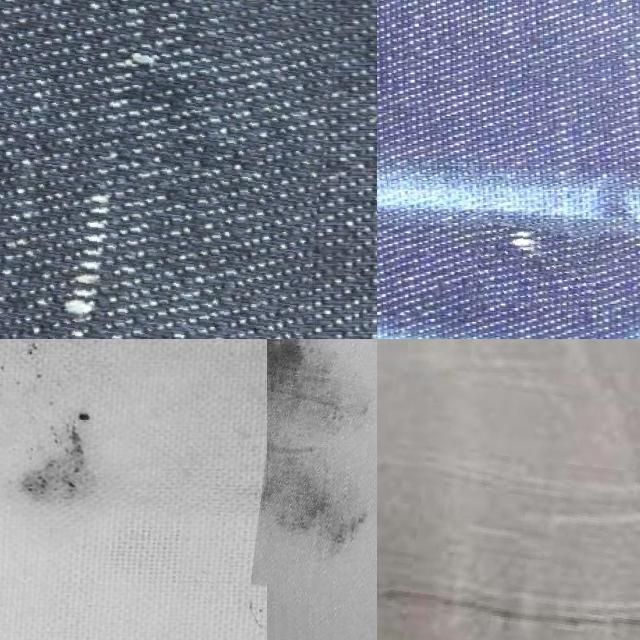Thread_other: (257, 339, 377, 598), (0, 339, 150, 538)
stains: (377, 342, 640, 640), (470, 220, 596, 310)
